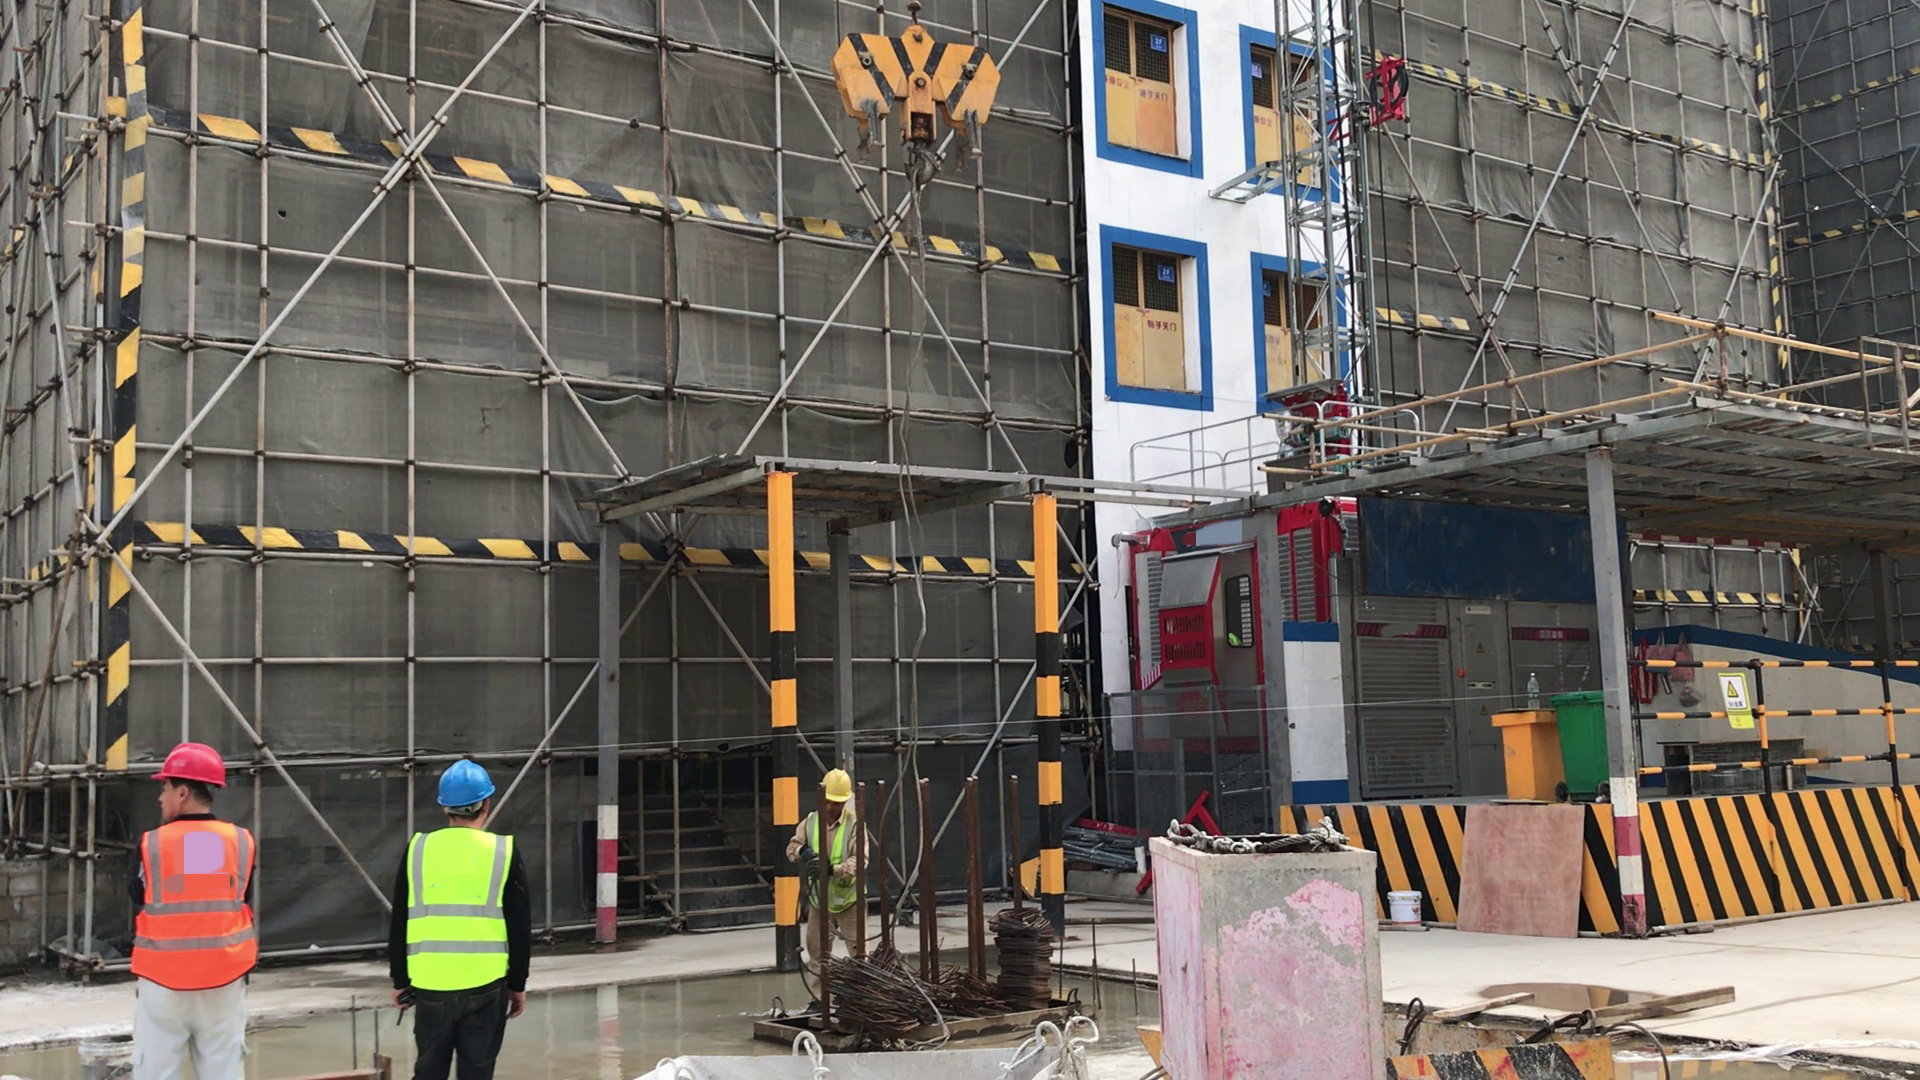helmet: (151, 744, 232, 802), (431, 756, 505, 818), (818, 769, 855, 809)
hook: (820, 14, 1008, 190)
hopper: (650, 1016, 1106, 1080), (1378, 1000, 1620, 1080)
person: (381, 750, 543, 1080), (113, 734, 269, 1078), (781, 771, 879, 972)
slogan: (1714, 663, 1757, 734)
vest: (133, 820, 265, 983), (406, 827, 511, 993), (803, 816, 861, 916)
